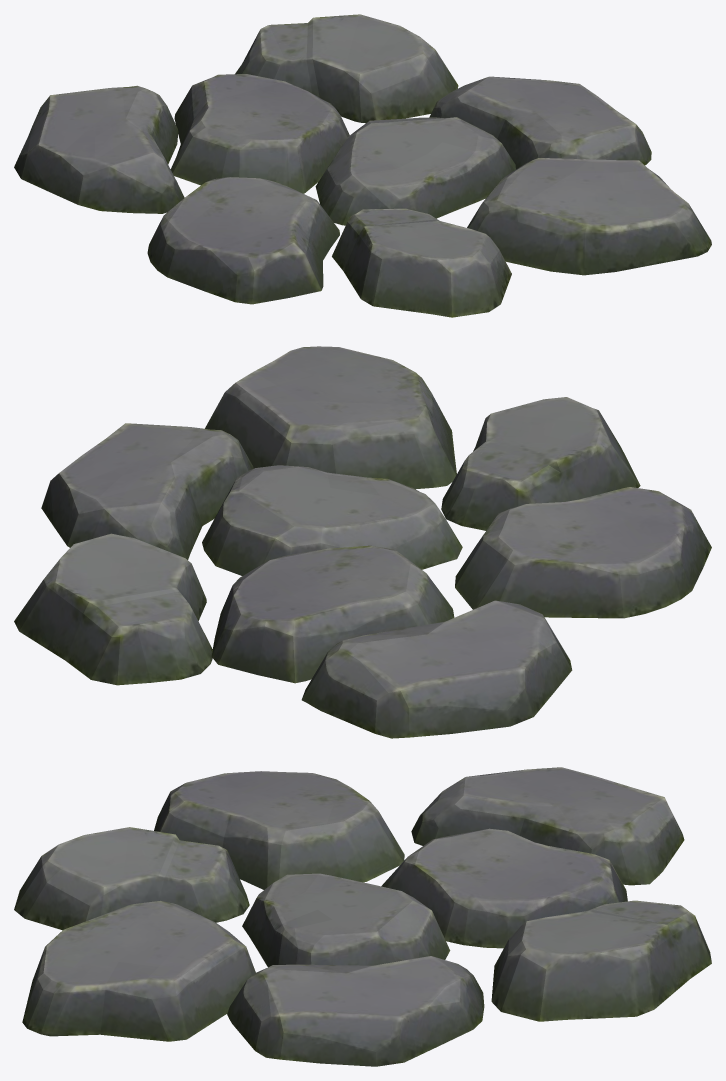
The model's file is RockPath_Round_Small_3.gltf.
The picture shows the model from 3 angles, top to bottom: view 1: azimuth 30°, elevation 25°; view 2: azimuth 150°, elevation 25°; view 3: azimuth 270°, elevation 25°; orthographic projection. The views are drawn at different scales.
Visible parts, largest first — view 1: RockPath_Round_Small_3; view 2: RockPath_Round_Small_3; view 3: RockPath_Round_Small_3.
Part boxes in pixels (box(x1,y1,x2,y2)): RockPath_Round_Small_3: box(14, 14, 711, 317); RockPath_Round_Small_3: box(14, 346, 711, 738); RockPath_Round_Small_3: box(14, 767, 711, 1066).
Size of the model in its own units: 1.18 by 0.1093 by 1.29.
Materials: 1 (1 with a texture image).
